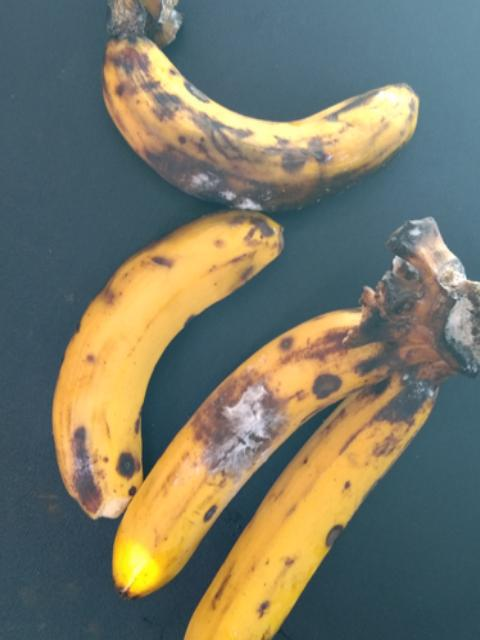overripe: (93, 312, 386, 594), (41, 204, 292, 513), (185, 374, 461, 639)
rotten: (89, 25, 427, 250)
